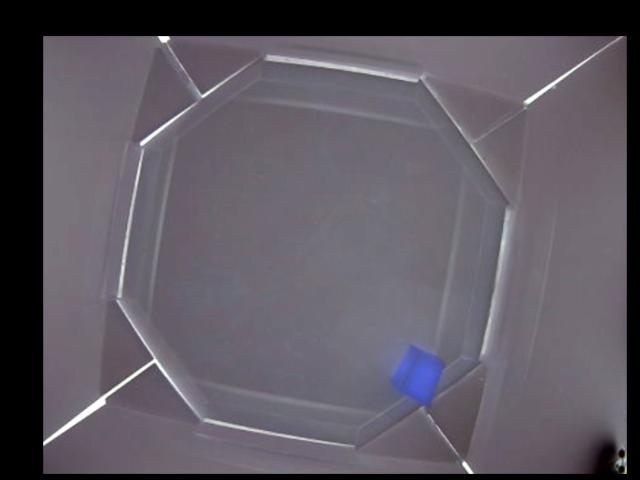Potato: (391, 343, 441, 404)
